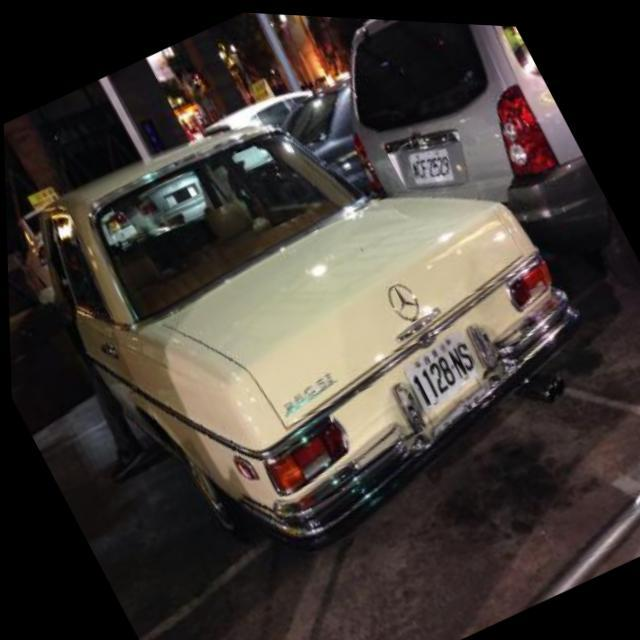license_plate: (392, 322, 488, 414), (402, 133, 461, 192)
